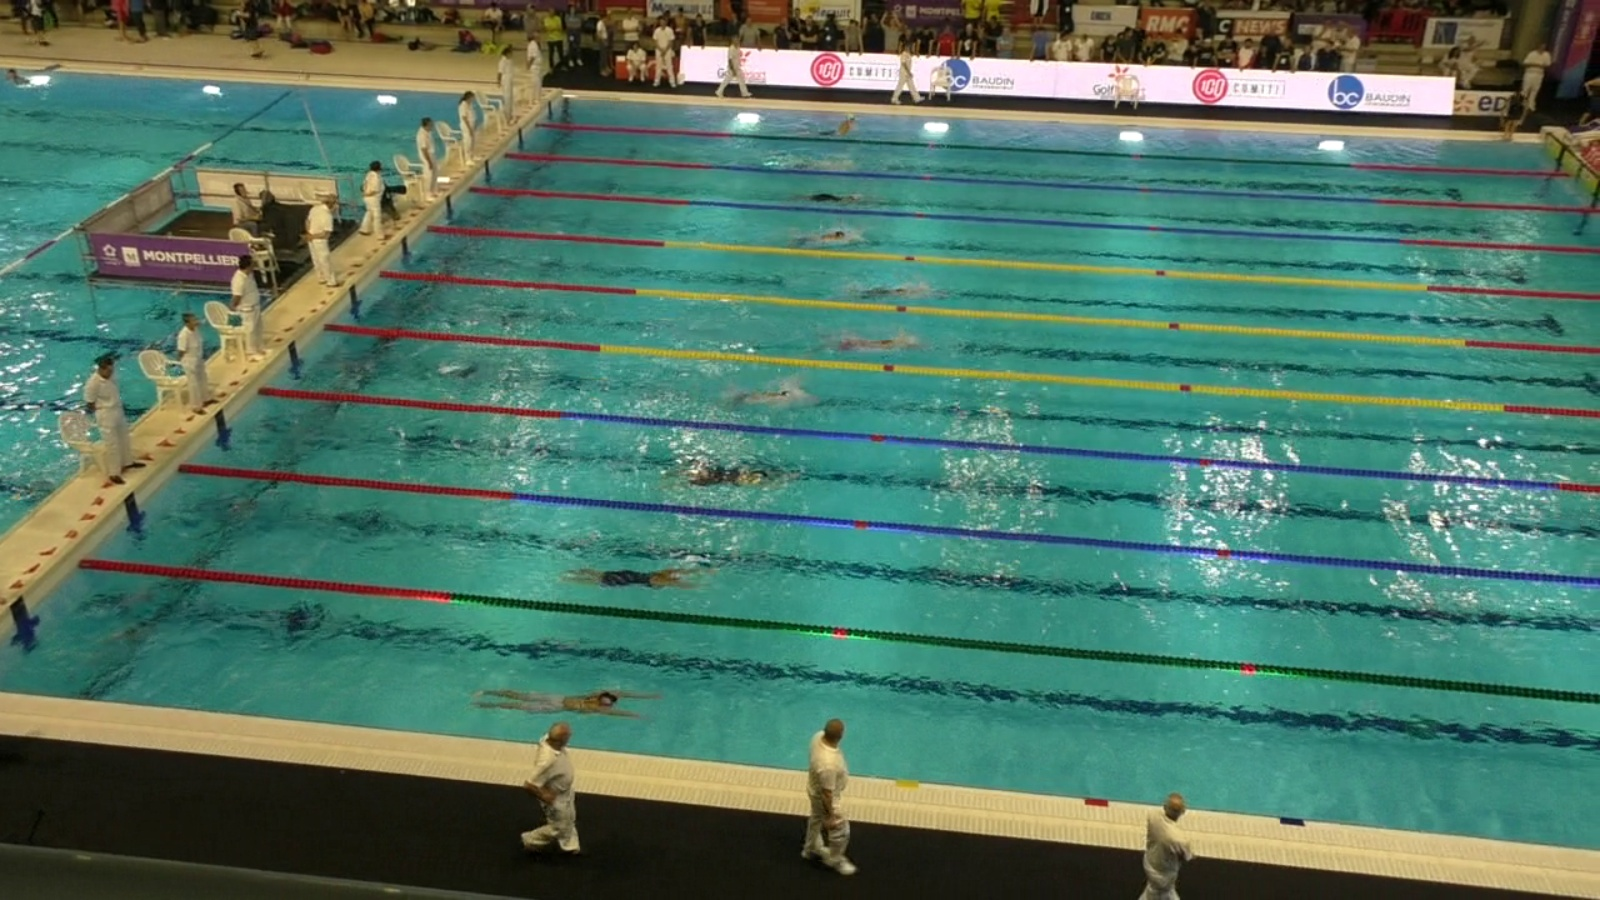swimmerwdd: (471, 677, 653, 732), (563, 557, 709, 595), (666, 460, 787, 501), (821, 329, 927, 362), (711, 385, 813, 415), (842, 277, 941, 303), (782, 112, 862, 140), (787, 184, 873, 207), (790, 224, 862, 249), (774, 155, 855, 171), (1, 65, 43, 91)
